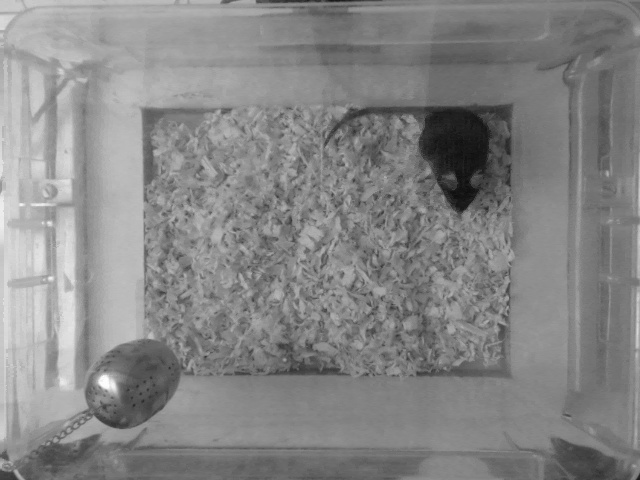mice: (320, 103, 489, 212)
